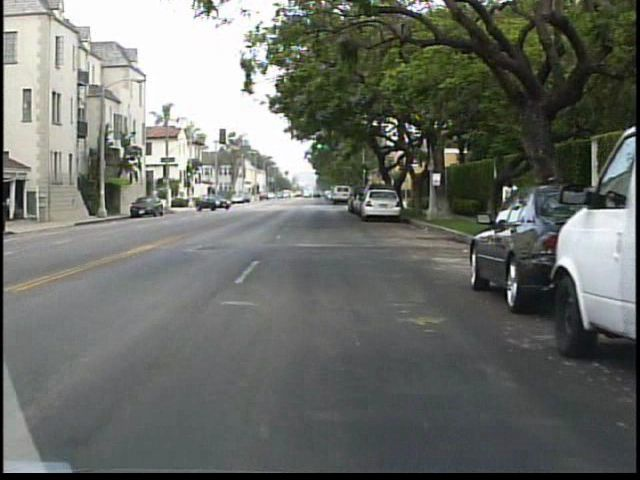person: (497, 172, 523, 232)
